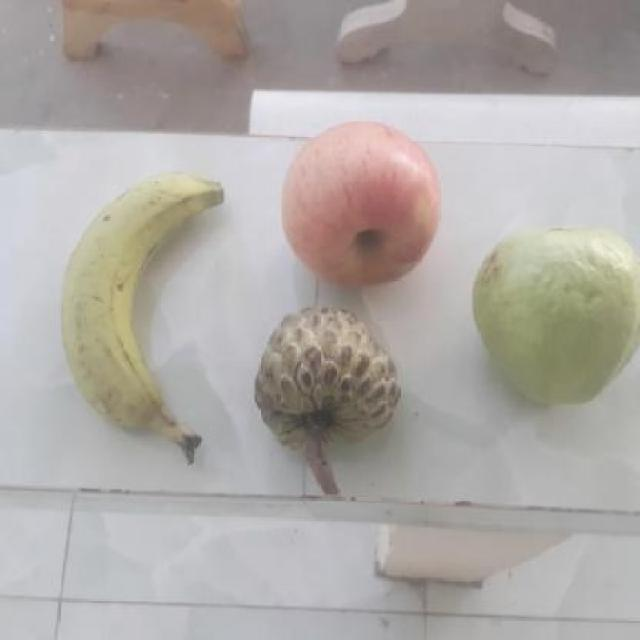apple: (276, 124, 450, 284)
banana: (63, 172, 226, 442)
guava: (479, 229, 639, 403)
sugar apple: (257, 308, 411, 468)
